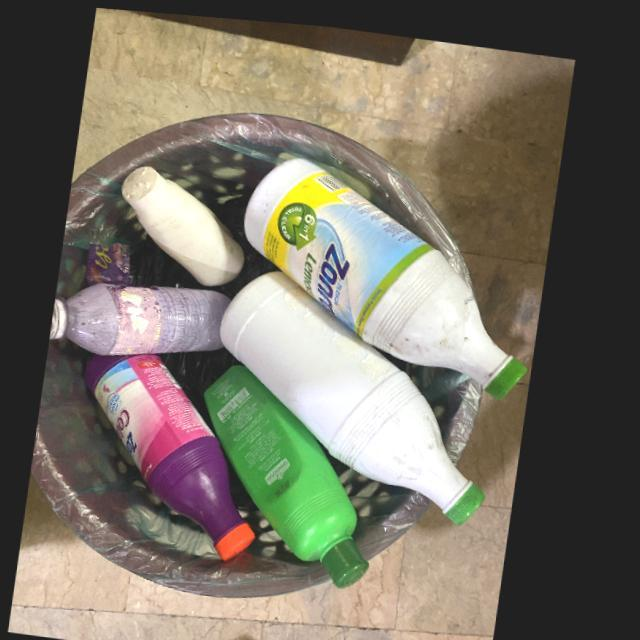plastic: (247, 153, 533, 391), (224, 266, 494, 517), (209, 360, 379, 583), (91, 352, 265, 557), (124, 164, 250, 285), (56, 281, 237, 354)
